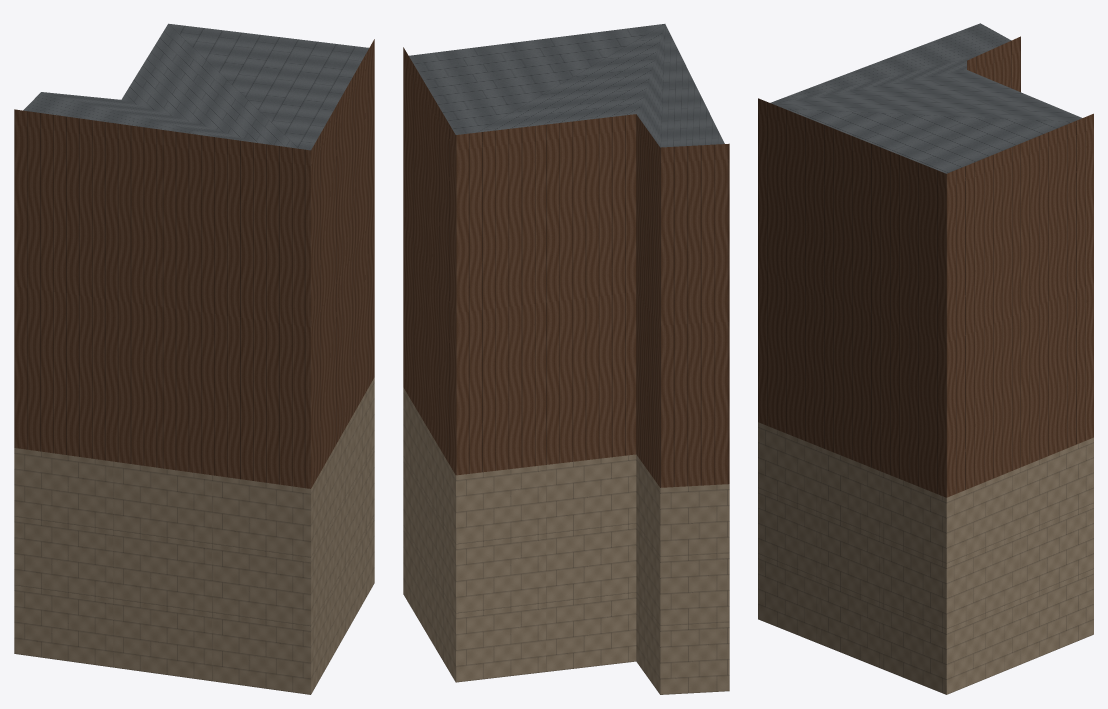
Rendered from bld_c44_32_255.gltf.
3 renders of one model, left to right at view 1: azimuth 30°, elevation 25°; view 2: azimuth 150°, elevation 25°; view 3: azimuth 270°, elevation 25°, orthographic. The views are drawn at different scales.
Parts seen in each view (by area): view 1: bld_c44_32_255; view 2: bld_c44_32_255; view 3: bld_c44_32_255.
Boxes of the visible parts, bbox=[...] form: bld_c44_32_255: bbox=[14, 23, 374, 694]; bld_c44_32_255: bbox=[403, 24, 729, 694]; bld_c44_32_255: bbox=[758, 23, 1093, 694].
Bounding box in the file's own units: 8.87 × 13.48 × 7.88.
4 materials, 4 textured.
